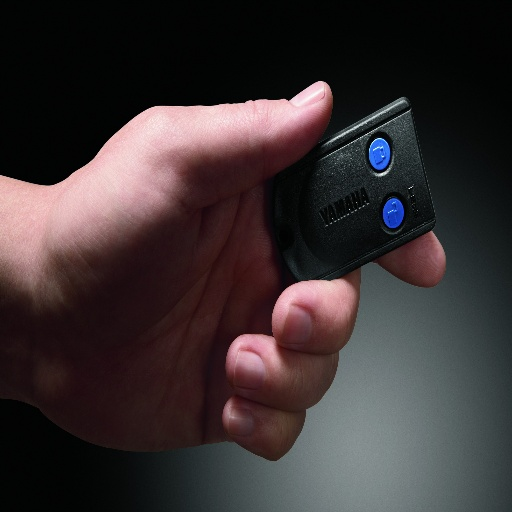hand: (5, 42, 414, 464)
